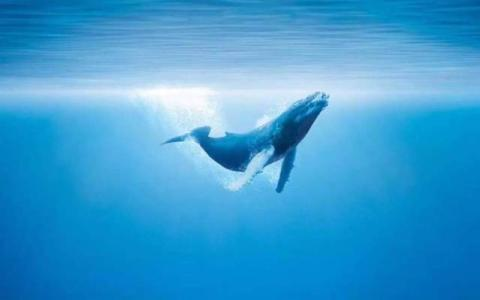fish: (156, 87, 336, 192)
